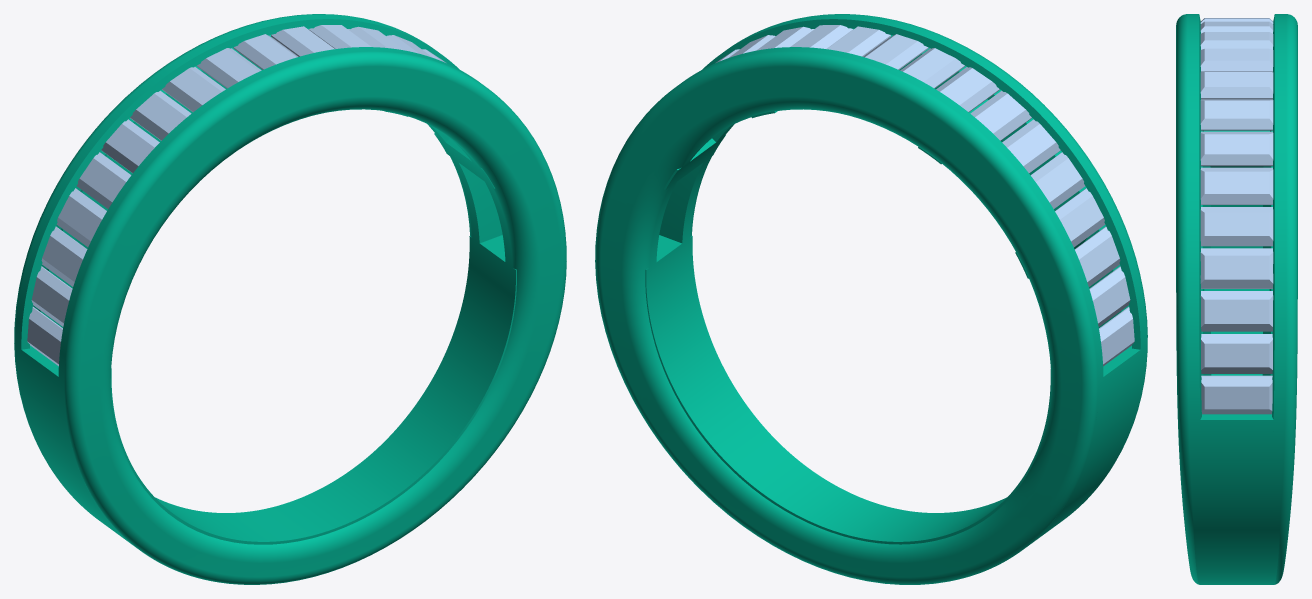
The picture shows the model from 3 angles, left to right: view 1: azimuth 30°, elevation 25°; view 2: azimuth 150°, elevation 25°; view 3: azimuth 270°, elevation 25°; orthographic projection.
Visible parts, largest first — view 1: SIZE - K(front).3dm, Diamond_Baguette Straight (×12); view 2: SIZE - K(front).3dm, Diamond_Baguette Straight (×12); view 3: SIZE - K(front).3dm, Diamond_Baguette Straight (×13).
Part boxes in pixels (left/top/right/bottom): SIZE - K(front).3dm: left=14, top=14, right=566, bottom=584; Diamond_Baguette Straight (×12): left=27, top=25, right=371, bottom=365; SIZE - K(front).3dm: left=595, top=14, right=1147, bottom=584; Diamond_Baguette Straight (×12): left=790, top=25, right=1134, bottom=366; SIZE - K(front).3dm: left=1176, top=14, right=1297, bottom=584; Diamond_Baguette Straight (×13): left=1200, top=18, right=1273, bottom=414.
Bounding box in the file's own units: 2.8 × 2.8 × 0.5963.
